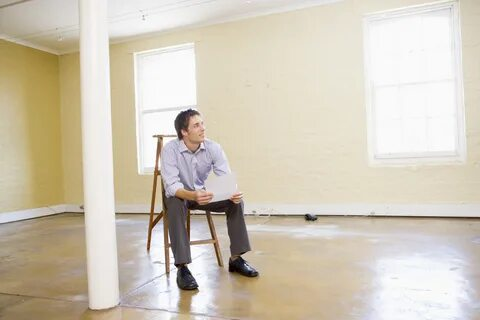awake: (159, 106, 259, 291)
